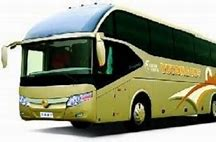bigcar: (4, 0, 215, 131)
